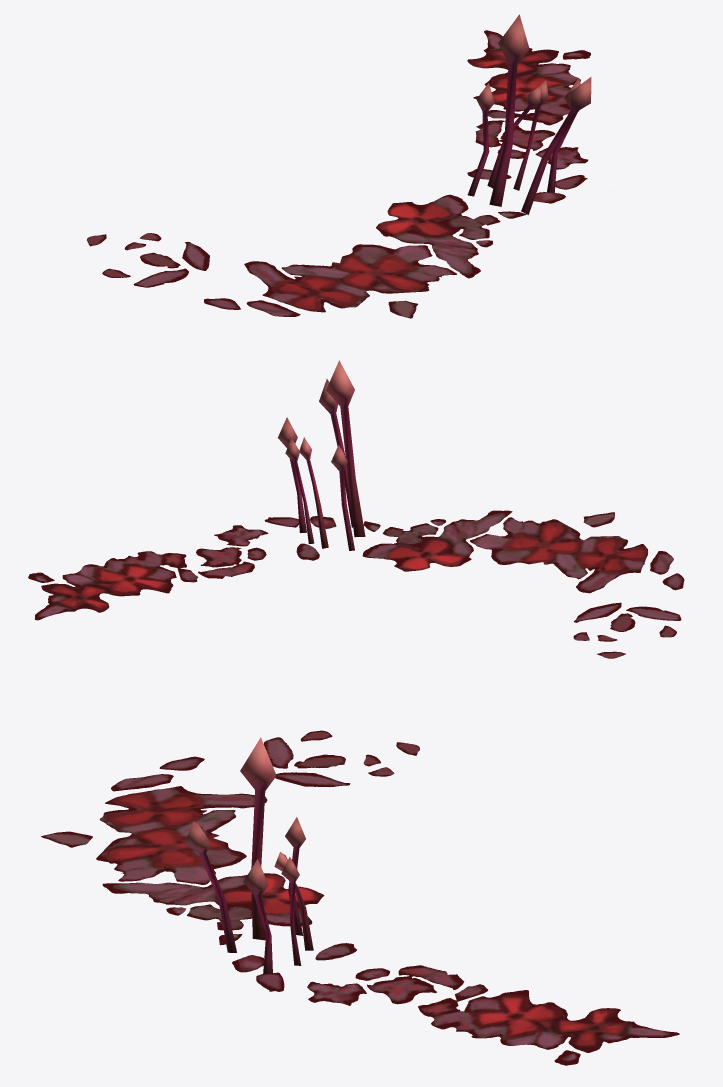
The model's file is hua05.FBX.
The picture shows the model from 3 angles, top to bottom: view 1: azimuth 30°, elevation 25°; view 2: azimuth 150°, elevation 25°; view 3: azimuth 270°, elevation 25°; orthographic projection. The views are drawn at different scales.
Visible parts, largest first — view 1: hua05; view 2: hua05; view 3: hua05.
Boxes of the visible parts, x1=… form: hua05: x1=87, y1=14, x2=591, y2=318; hua05: x1=28, y1=360, x2=684, y2=658; hua05: x1=41, y1=730, x2=679, y2=1065.
Size of the model in its own units: 41.62 by 32.95 by 11.64.
